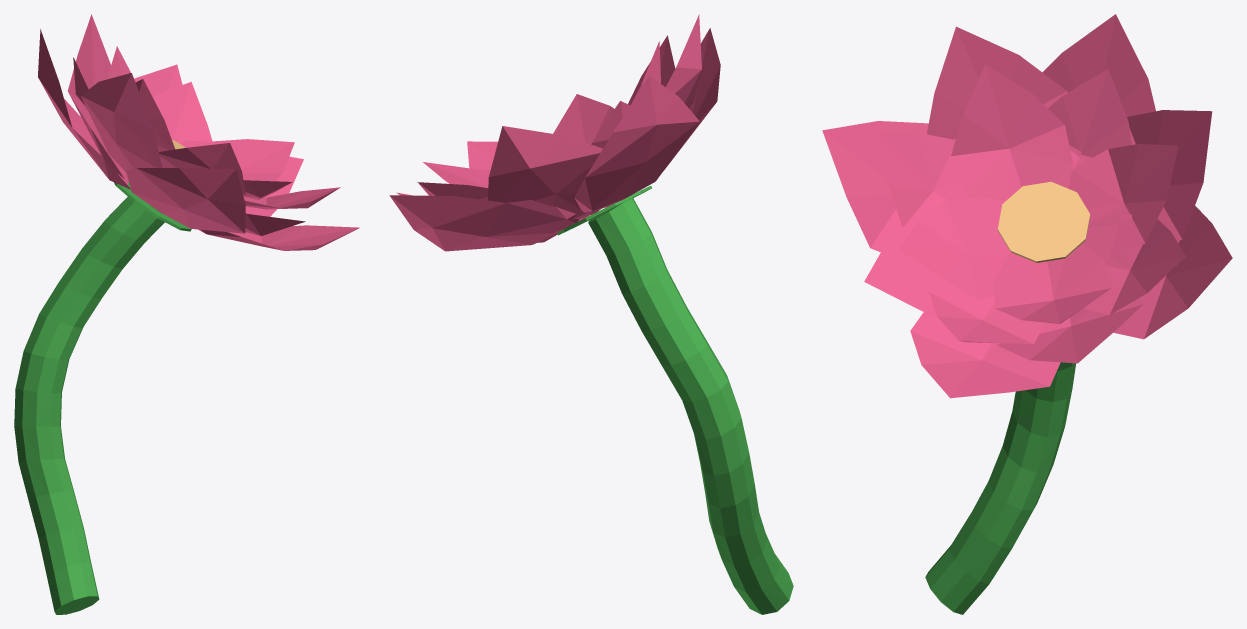
File: lotus.glb
3 renders of one model, left to right at view 1: azimuth 30°, elevation 25°; view 2: azimuth 150°, elevation 25°; view 3: azimuth 270°, elevation 25°, orthographic. The views are drawn at different scales.
Parts seen in each view (by area): view 1: group771107262; view 2: group771107262; view 3: group771107262.
Part boxes in pixels (<box>): group771107262: <box>14,14,359,614</box>; group771107262: <box>389,14,793,614</box>; group771107262: <box>822,14,1232,614</box>.
Bounding box in the file's own units: 0.6596 × 1.09 × 0.6567.
